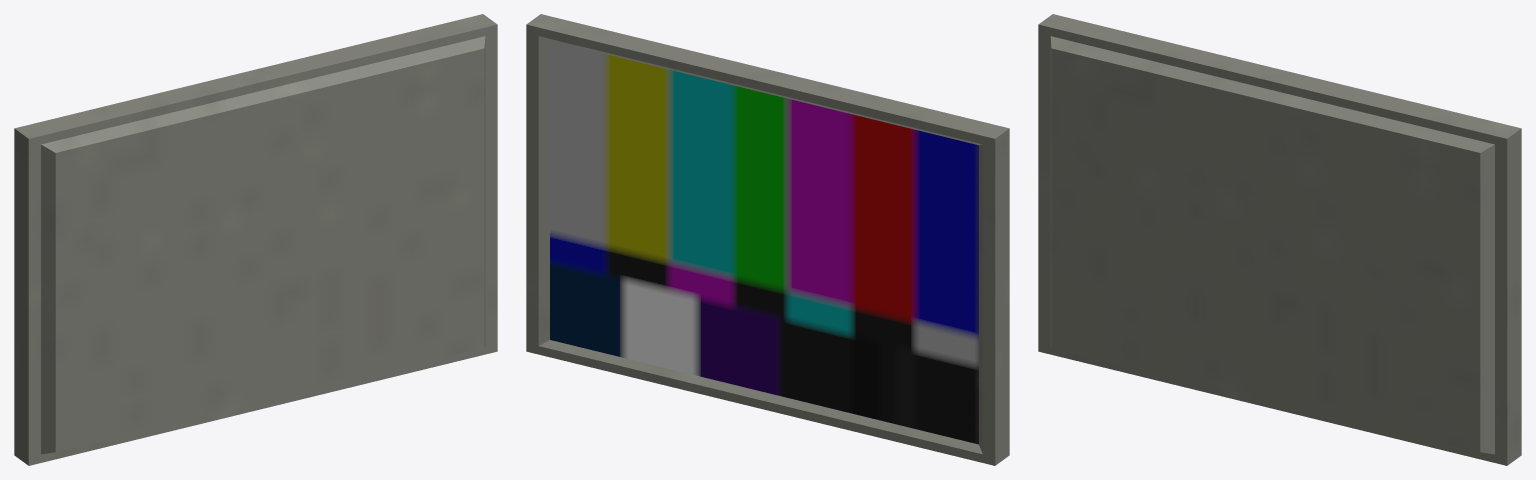
Rendered from monitorDisplay.fbx.
The picture shows the model from 3 angles, left to right: view 1: azimuth 30°, elevation 25°; view 2: azimuth 150°, elevation 25°; view 3: azimuth 330°, elevation 25°; orthographic projection.
Parts seen in each view (by area): view 1: monitorDisplay; view 2: monitorDisplay; view 3: monitorDisplay.
Boxes of the visible parts, x1,y1,x2,y2 form: monitorDisplay: (14,14,497,465); monitorDisplay: (526,14,1009,465); monitorDisplay: (1038,14,1521,465).
Size of the model in its own units: 234 by 156 by 18.49.
